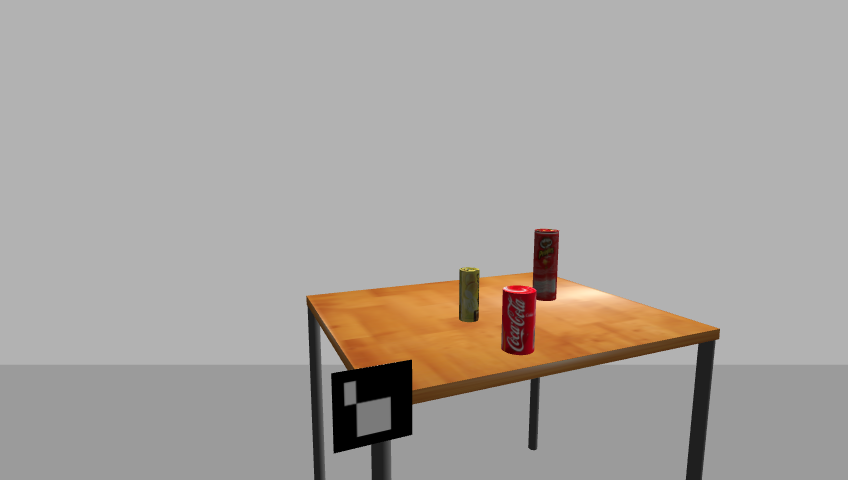aruco marker: (325, 359, 418, 455)
biscuits pack: (456, 266, 481, 324)
coke can: (500, 285, 537, 356)
dinner table: (298, 276, 730, 479)
pringles can: (531, 228, 562, 304)
